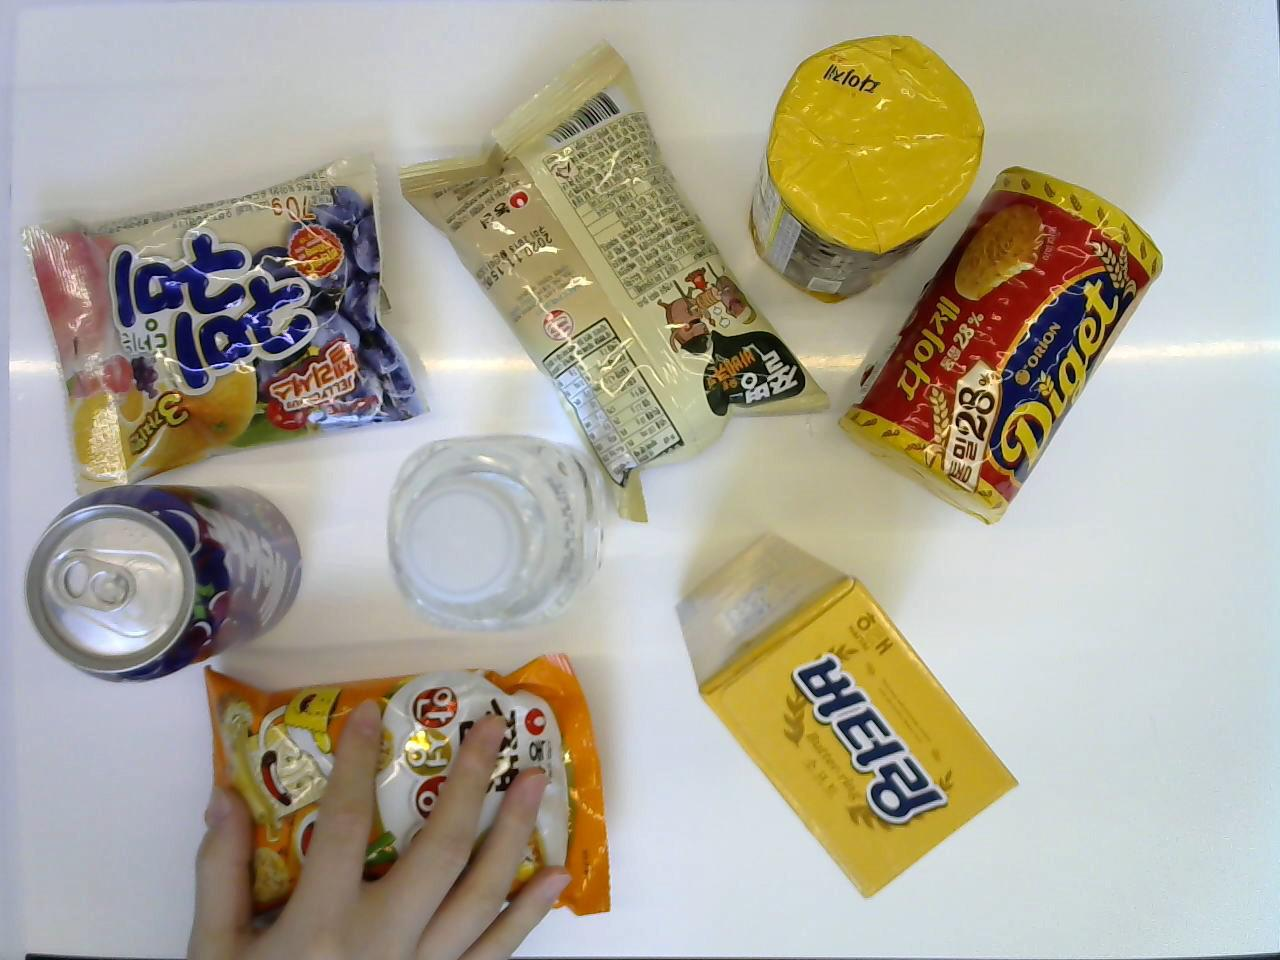buttering: (669, 539, 1017, 905)
diget_choco: (747, 20, 986, 304)
diget_ori: (846, 164, 1161, 529)
gumi_gumi: (18, 143, 436, 495)
jjolbyung_noodle: (195, 653, 617, 925)
jjolbyung_ori: (399, 38, 833, 528)
samdasu: (382, 433, 610, 632)
welchs: (23, 480, 310, 685)
